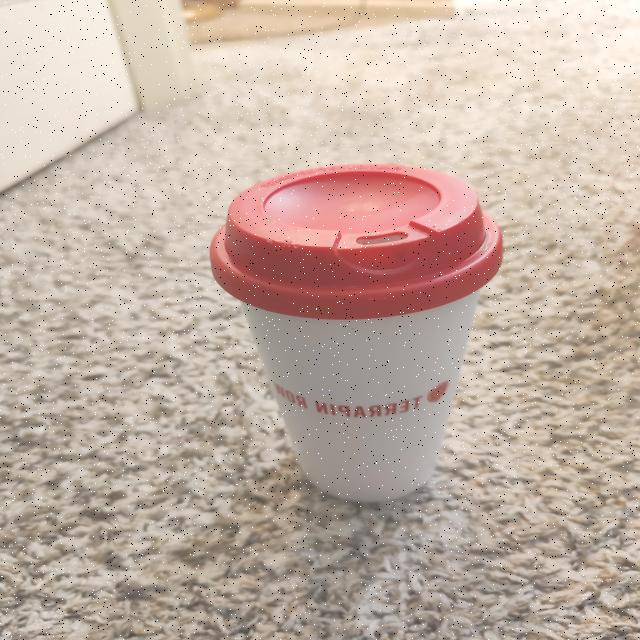mug: (230, 171, 494, 517)
